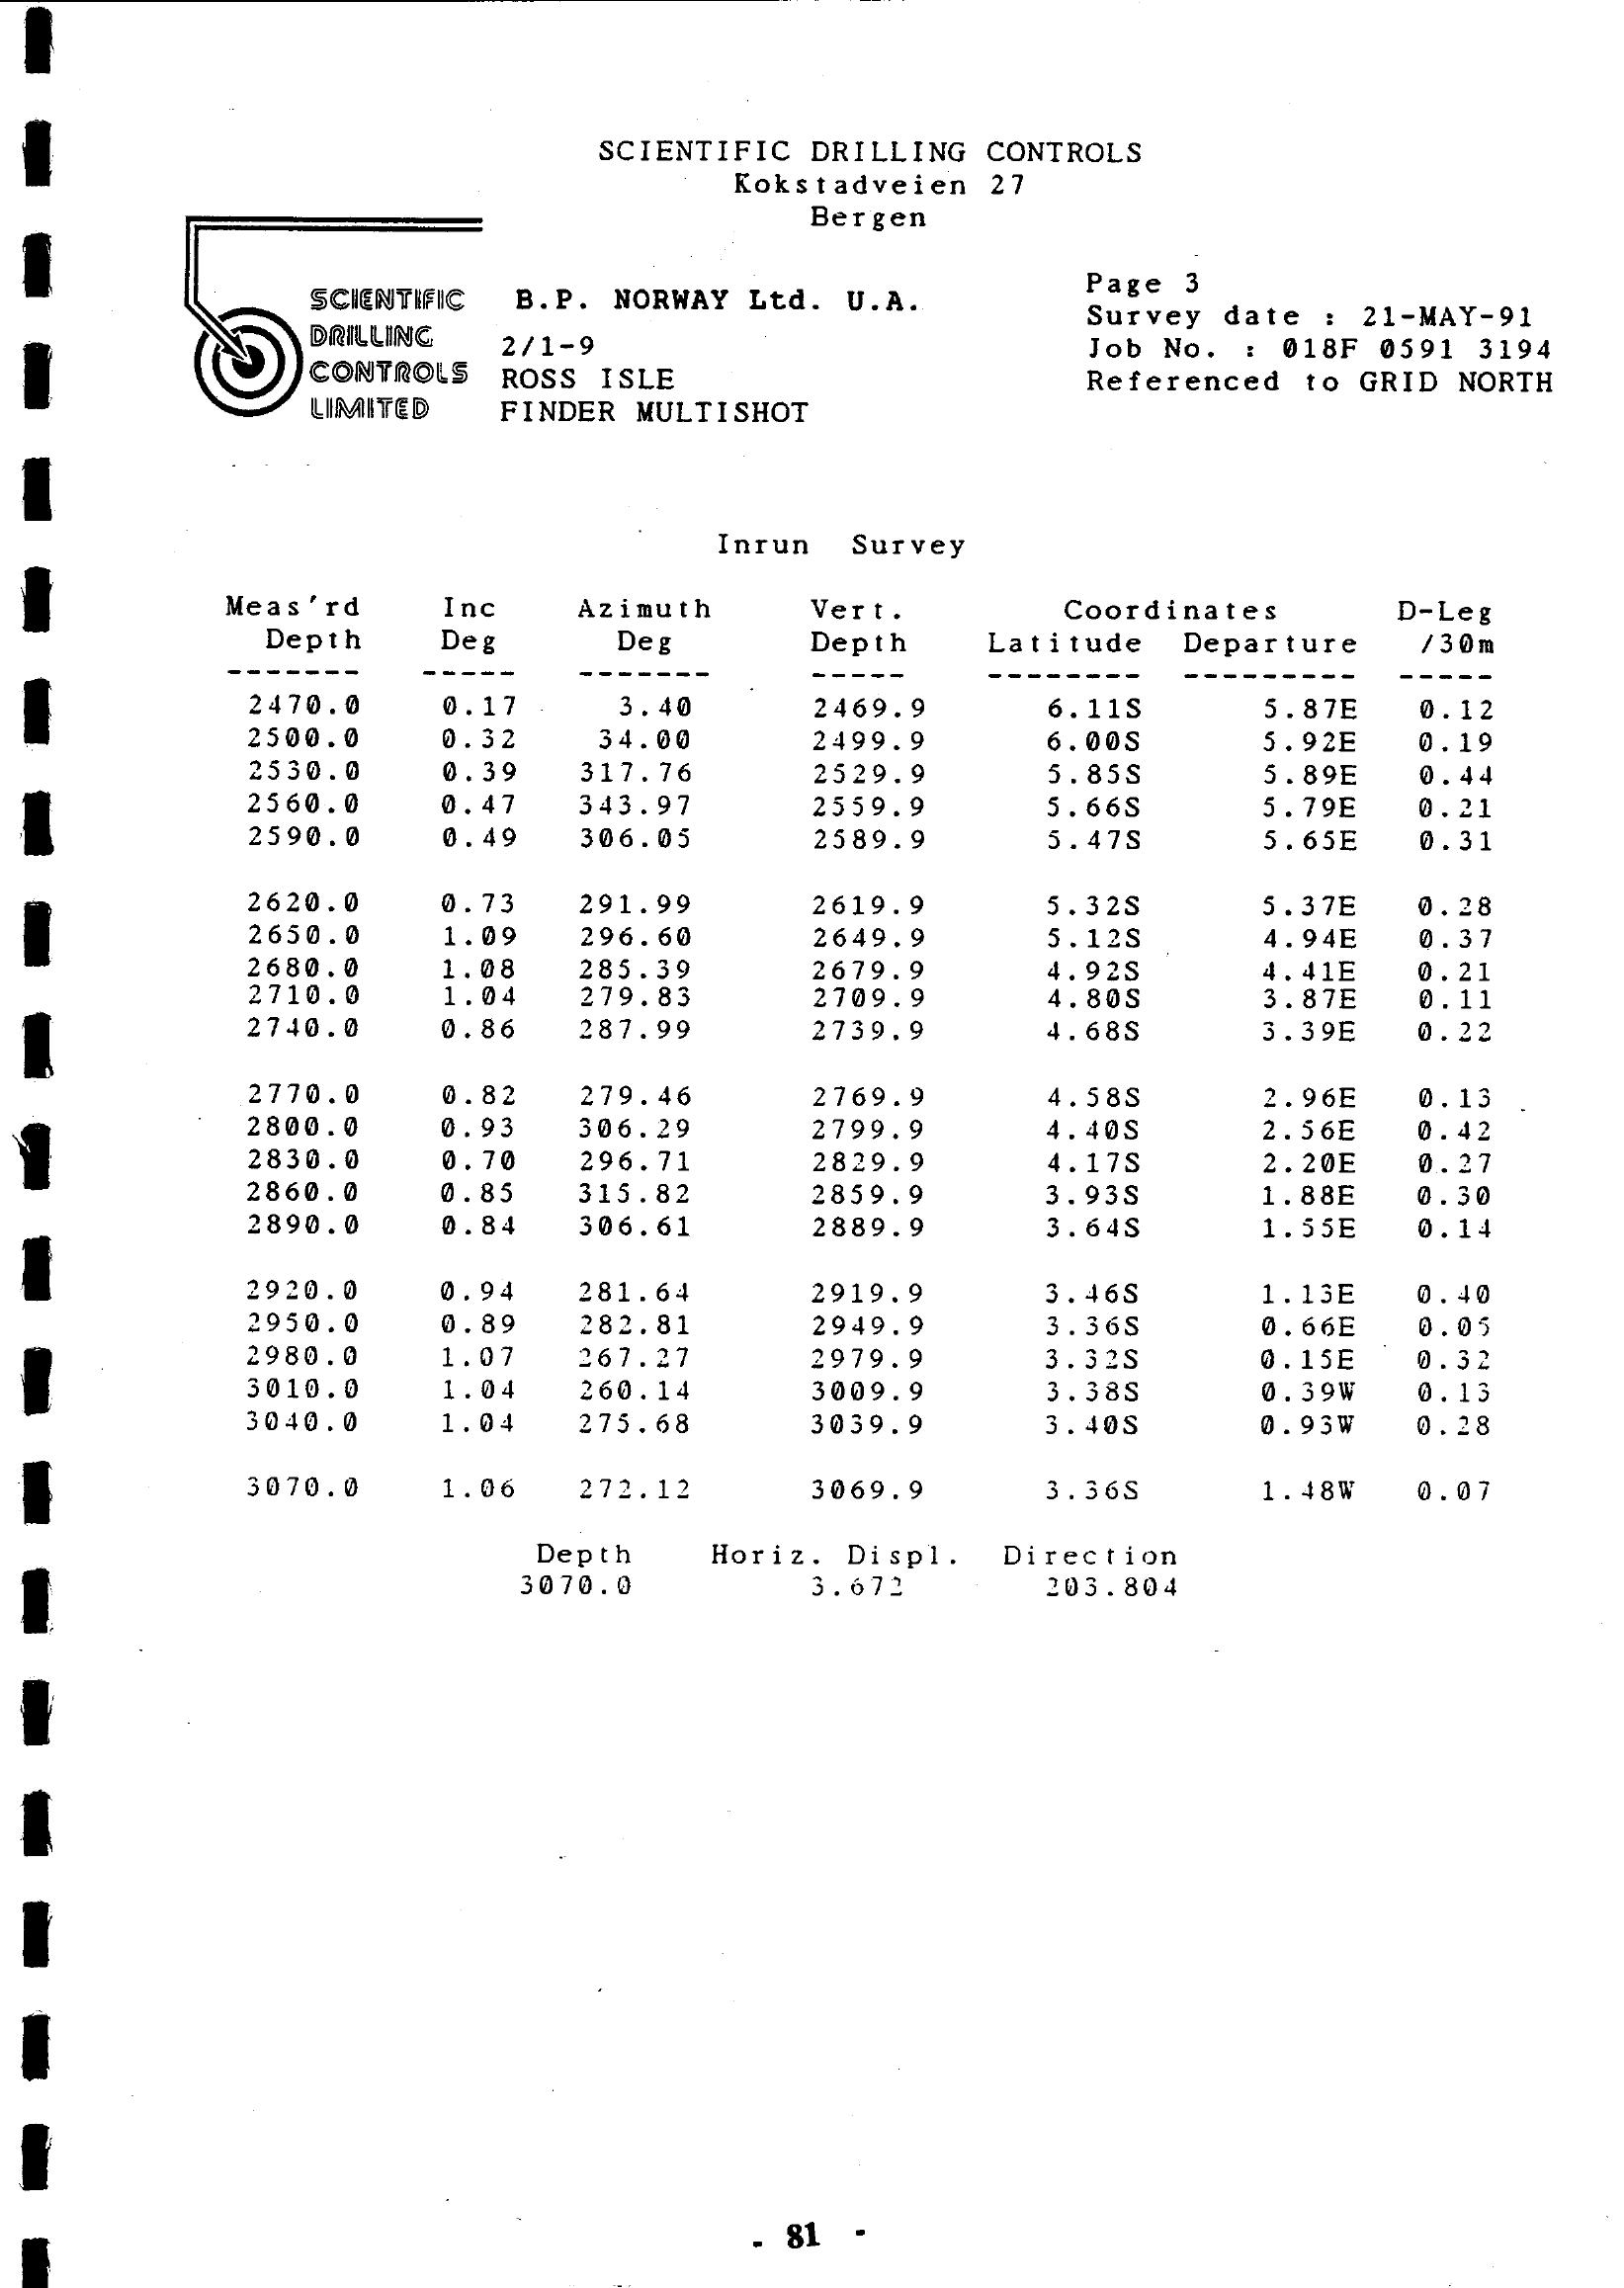table: (181, 524, 1527, 1633)
text: (485, 267, 1562, 434)
undefined: (153, 197, 496, 455)
